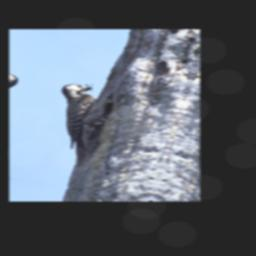Woodpecker: (38, 78, 120, 171)
